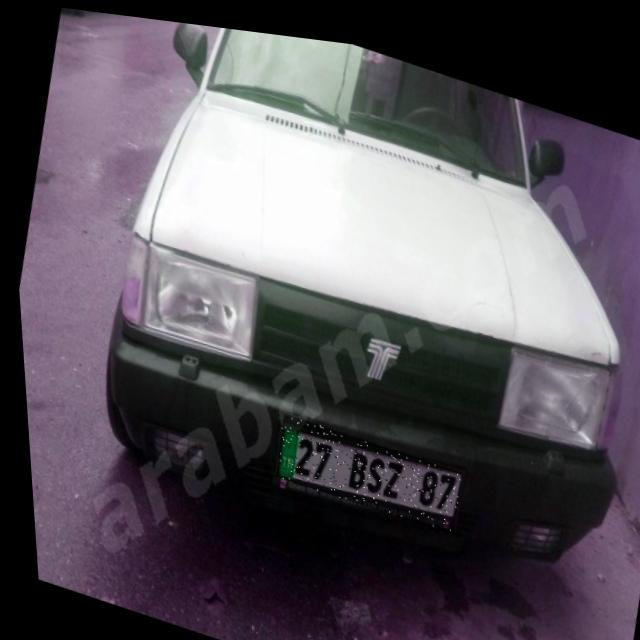license_plate: (264, 405, 460, 526)
